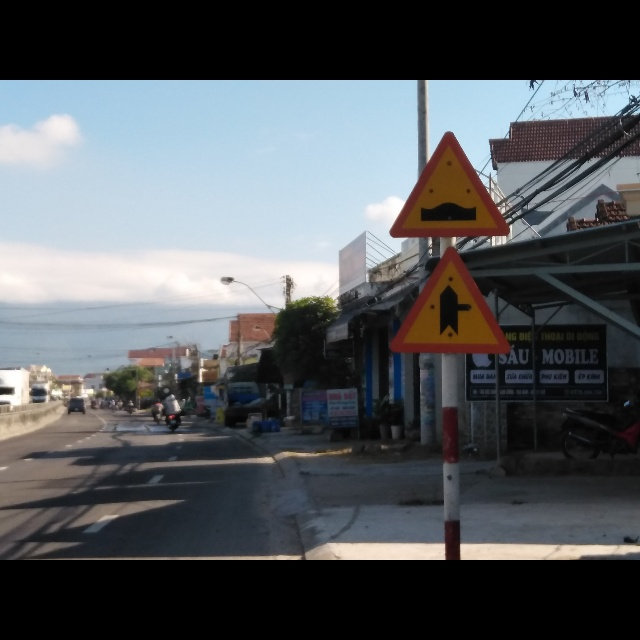Giao nhau với đường không ưu tiên: (388, 245, 512, 355)
Đường không bằng phẳng: (388, 126, 511, 238)
